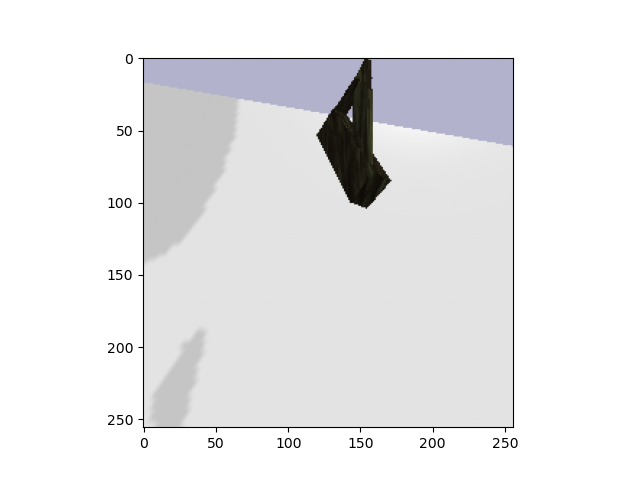v249b387_109: (300, 59, 407, 213)
